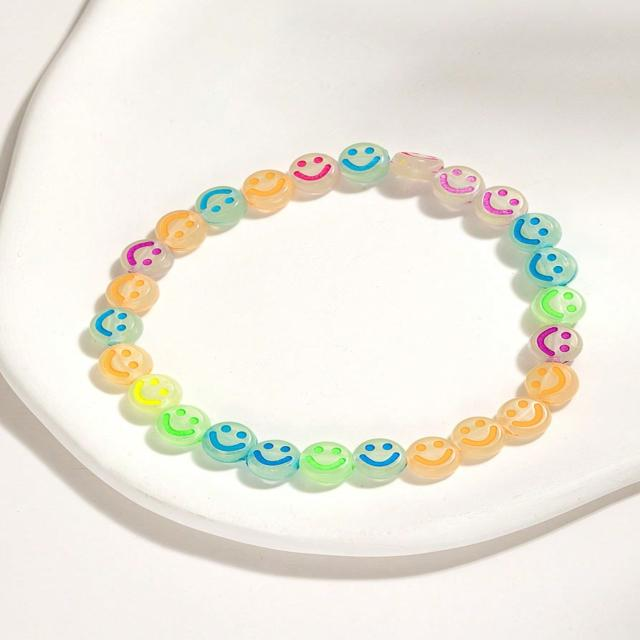bracelet: (48, 73, 640, 549)
